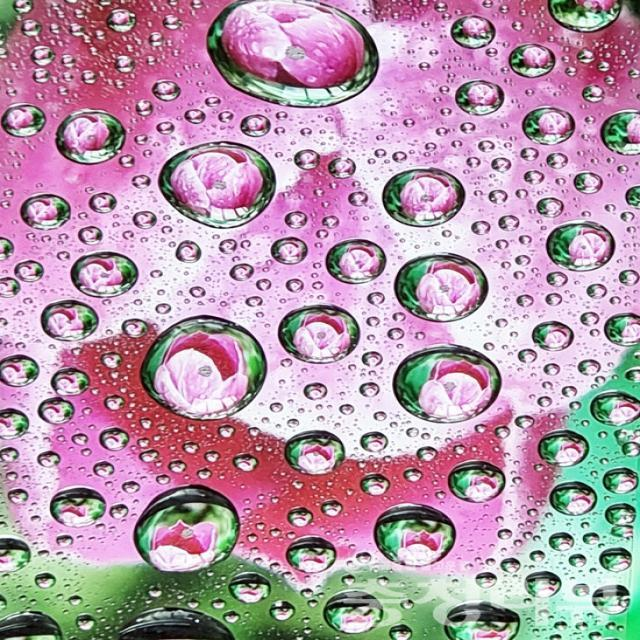raindrop: (189, 0, 394, 115), (132, 298, 278, 438), (137, 130, 286, 242), (126, 472, 250, 584), (380, 338, 520, 435), (384, 244, 506, 334), (371, 152, 484, 245), (40, 92, 144, 180), (366, 494, 469, 582), (270, 292, 366, 376), (532, 208, 632, 282), (64, 240, 152, 309), (434, 452, 524, 514), (29, 289, 116, 353), (532, 0, 640, 48), (39, 474, 120, 538), (316, 583, 404, 640), (274, 424, 351, 484), (12, 182, 84, 246), (524, 418, 598, 478), (448, 68, 517, 132), (500, 36, 572, 94), (522, 98, 592, 156), (591, 96, 640, 170), (438, 8, 510, 58), (539, 470, 605, 520), (286, 530, 338, 578), (587, 580, 640, 624), (523, 563, 565, 609)
